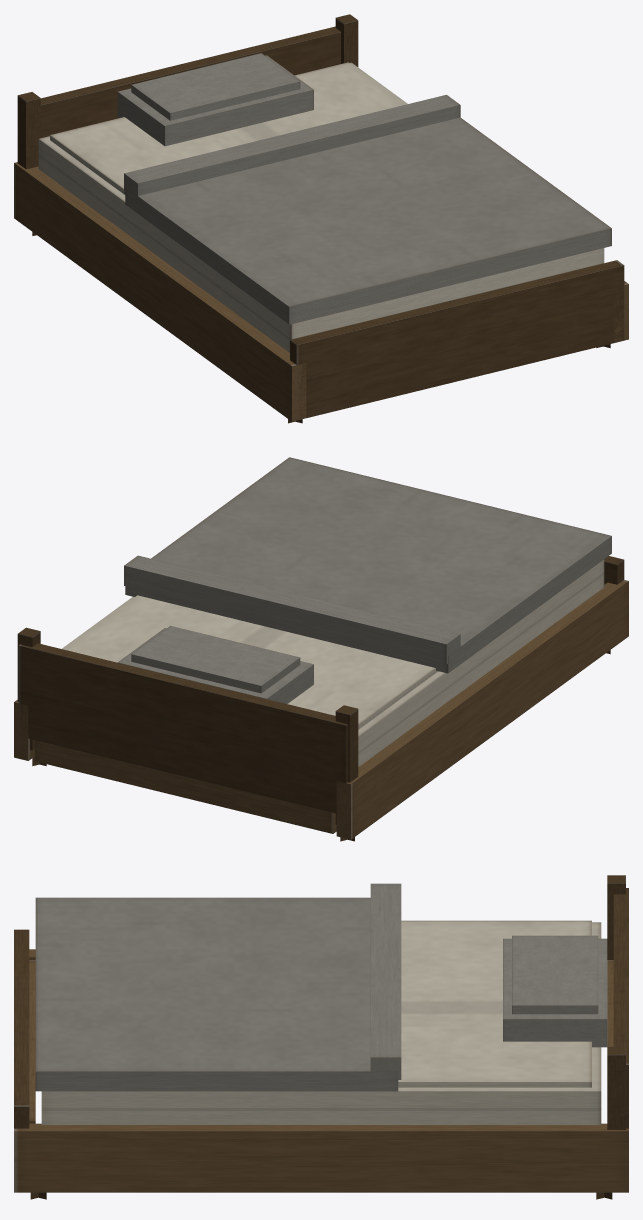
Rendered from bed.glb.
3 renders of one model, top to bottom at view 1: azimuth 30°, elevation 25°; view 2: azimuth 150°, elevation 25°; view 3: azimuth 270°, elevation 25°, orthographic. The views are drawn at different scales.
Parts seen in each view (by area): view 1: core_bed; view 2: core_bed; view 3: core_bed.
Part boxes in pixels (x1,y1,x2,y2): core_bed: [14, 14, 628, 423]; core_bed: [14, 457, 628, 841]; core_bed: [14, 875, 628, 1199].
Size of the model in its own units: 1.4 by 0.55 by 2.
1 material, 1 textured.
